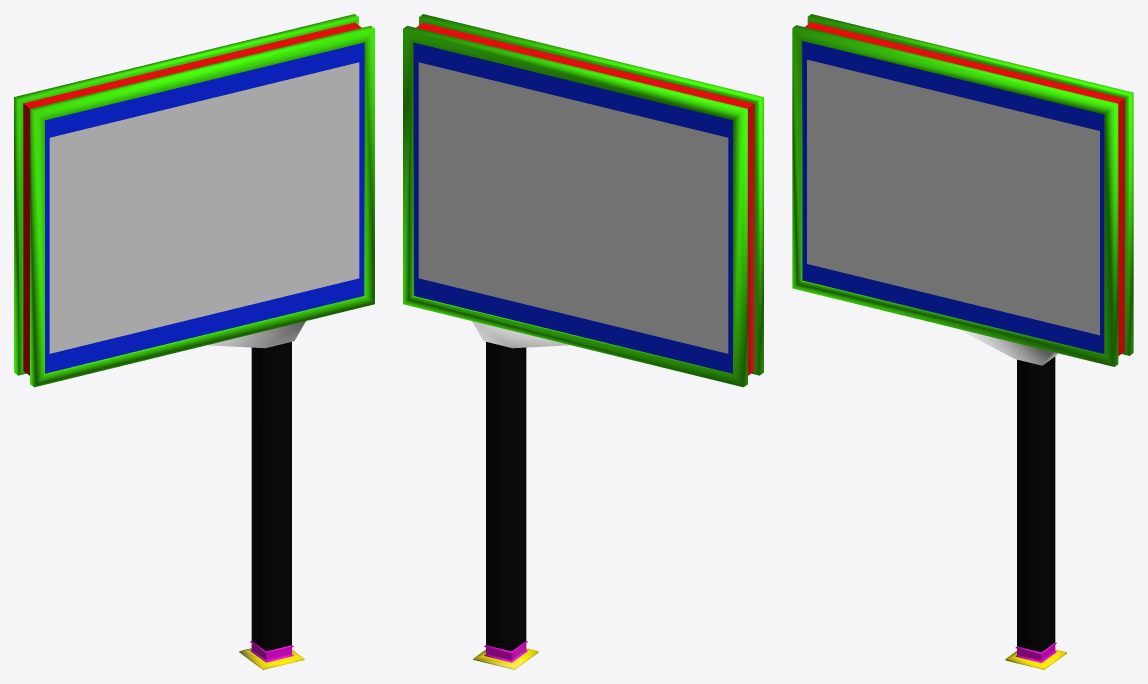
File: Ad_panel.fbx
3 views of the same model, side by side, from view 1: azimuth 30°, elevation 25°; view 2: azimuth 150°, elevation 25°; view 3: azimuth 330°, elevation 25° (orthographic). The views are drawn at different scales.
Visible parts, largest first — view 1: Screen, Feet; view 2: Screen2, Feet; view 3: Screen, Feet.
Part boxes in pixels (x1,y1,x2,y2): Screen: (49, 62, 359, 353); Feet: (14, 14, 374, 669); Screen2: (418, 62, 728, 353); Feet: (403, 14, 763, 669); Screen: (807, 59, 1099, 335); Feet: (792, 14, 1133, 669).
Size of the model in its own units: 264 by 453 by 32.06.
